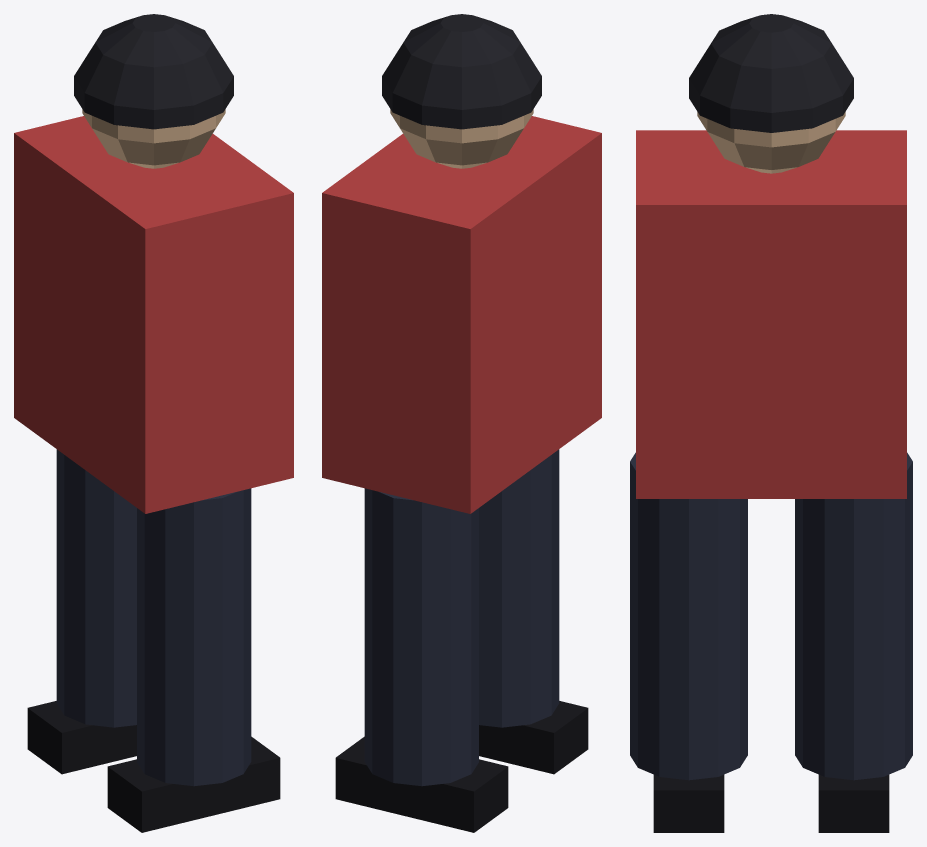
Rendered from walker.obj.
3 renders of one model, left to right at view 1: azimuth 30°, elevation 25°; view 2: azimuth 150°, elevation 25°; view 3: azimuth 270°, elevation 25°, orthographic. The views are drawn at different scales.
Size of the model in its own units: 0.3 by 1.45 by 0.48.
